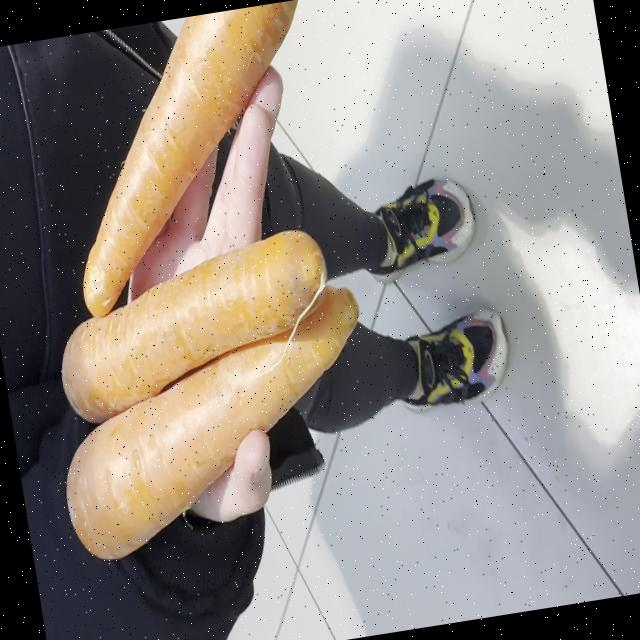carrot: (66, 288, 359, 560), (83, 1, 297, 317), (62, 229, 327, 423)
